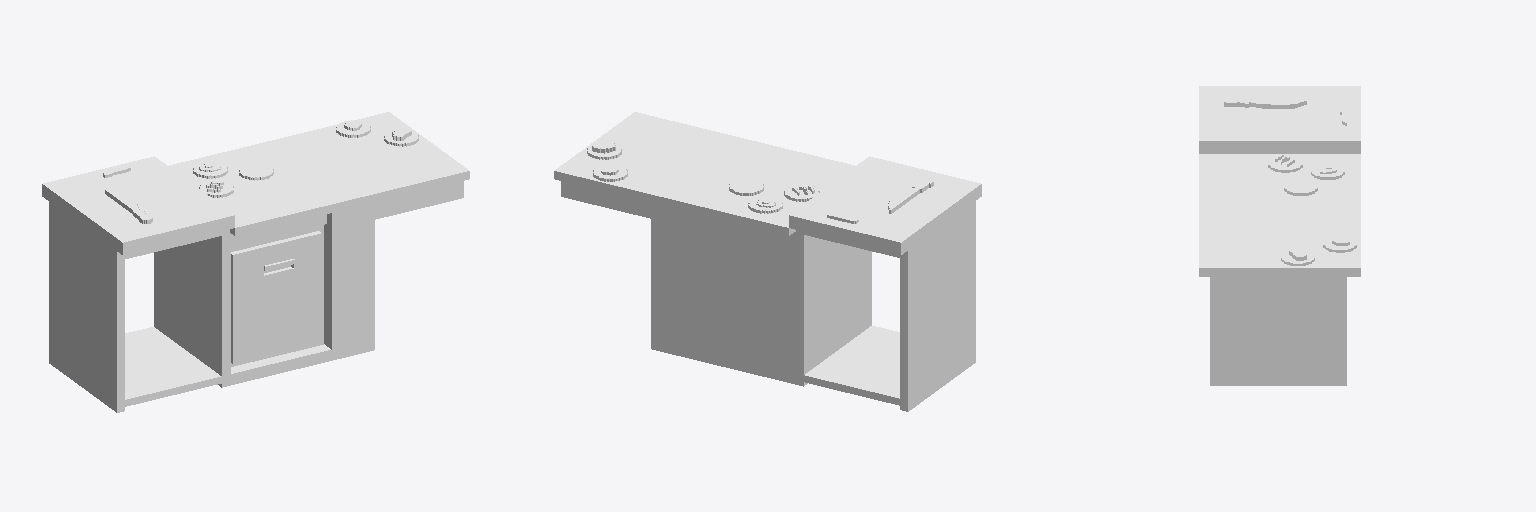
The model's file is BancadaComFaca.obj.
The picture shows the model from 3 angles: view 1: azimuth 30°, elevation 25°; view 2: azimuth 150°, elevation 25°; view 3: azimuth 270°, elevation 25°; orthographic projection.
Visible parts, largest first — view 1: object 1; view 2: object 1; view 3: object 1.
Part boxes in pixels (x1,y1,x2,y2): object 1: (42, 112, 469, 412); object 1: (554, 112, 981, 411); object 1: (1199, 86, 1360, 385).
Bounding box in the file's own units: 25.6 × 12.6 × 10.3.